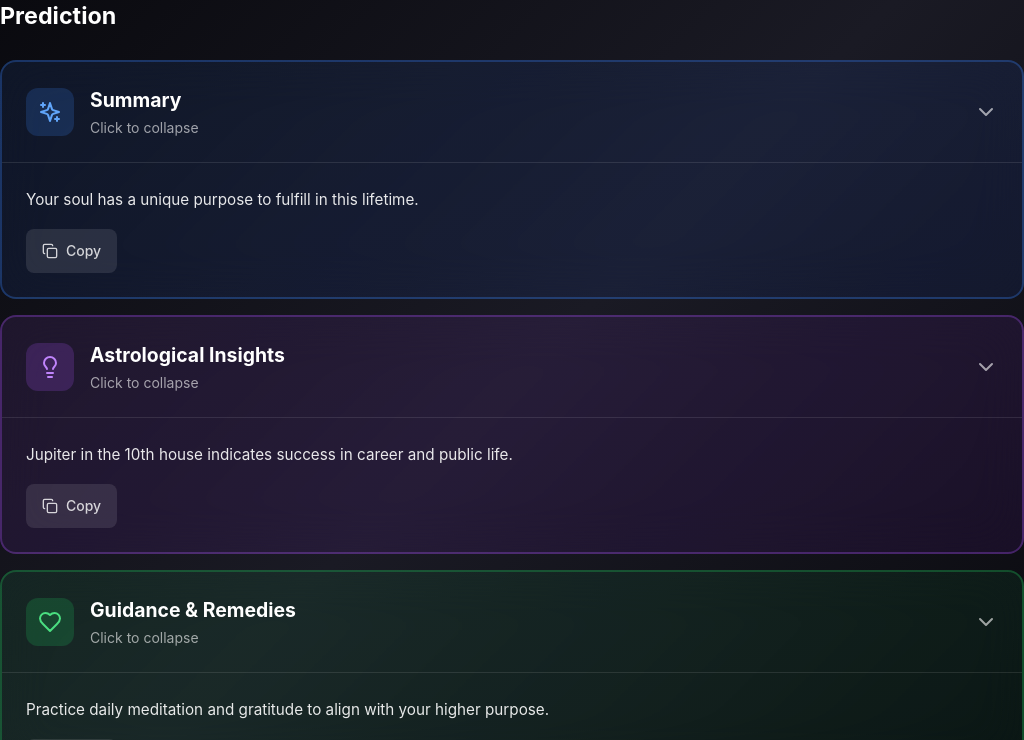
CrystalClearPrediction › Section Interaction › toggles section expansion on click
This screenshot has width=1024, height=740.
Check: the text "Your soul has a unique purpose to fulfill in this lifetime." is shown, box [26,190,419,209]
// Click to collapse
Click the button "Summary Click to collapse". click: (50, 112)
box: [2,62,1022,162]
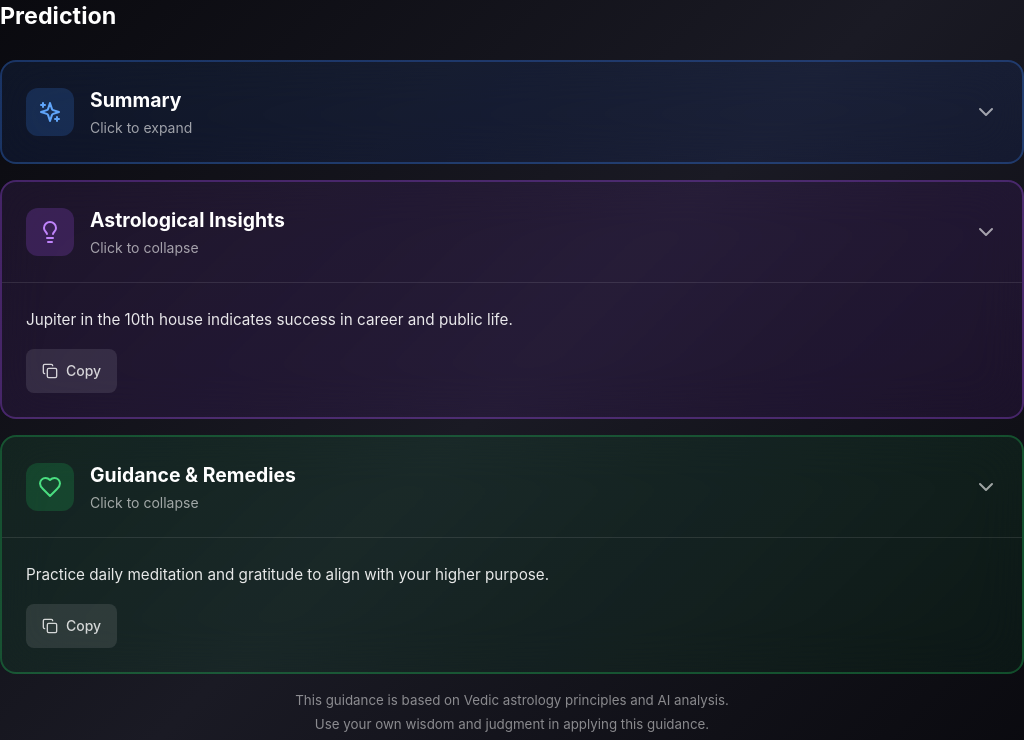
Check: the text "Your soul has a unique purpose to fulfill in this lifetime." is gone
